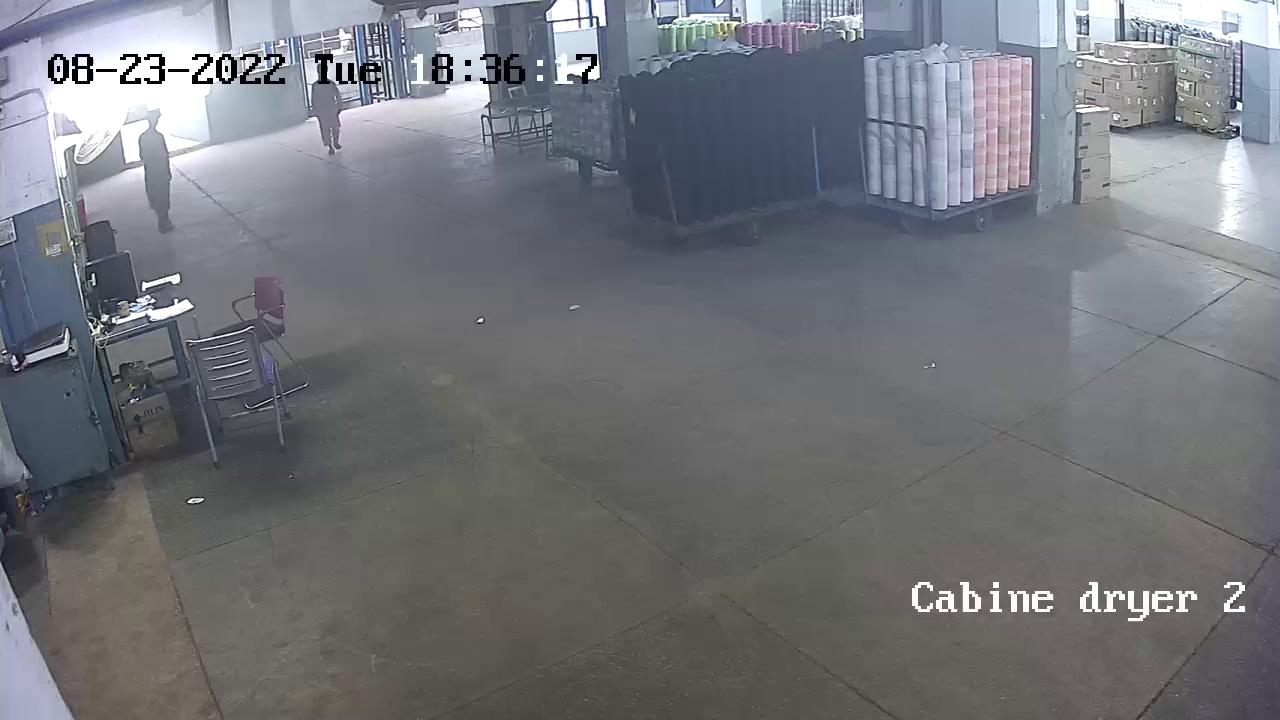person: (132, 115, 183, 243), (312, 71, 348, 160)
